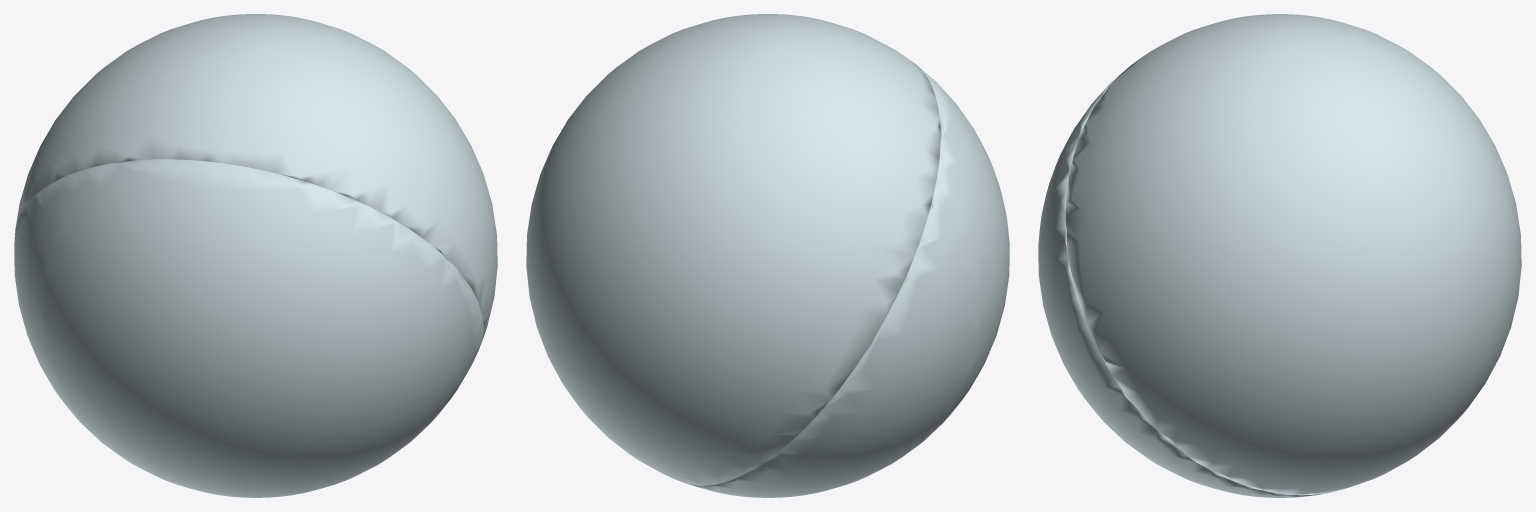
File: sphere-cad.glb
3 views of the same model, side by side, from view 1: azimuth 30°, elevation 25°; view 2: azimuth 150°, elevation 25°; view 3: azimuth 270°, elevation 25° (orthographic).
Visible parts, largest first — view 1: Shell Lower, Shell Upper; view 2: Shell Upper, Shell Lower; view 3: Shell Upper, Shell Lower.
Boxes of the visible parts, x1,y1,x2,y2 form: Shell Lower: (14,159,483,497); Shell Upper: (15,14,497,340); Shell Upper: (526,14,940,485); Shell Lower: (689,66,1009,497); Shell Upper: (1065,14,1521,495); Shell Lower: (1038,75,1329,497).
Size of the model in its own units: 0.0685 by 0.0686 by 0.0685.
